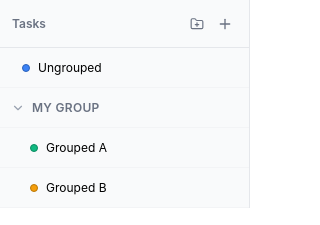
Test: Task Groups › collapsing a group hides its children
Note: Click the collapse toggle
Click the button with test id "group-toggle-g1".
click(18, 108)  # box [8,98,28,118]
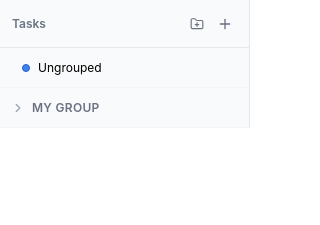
Expected: the text "My Group" is shown, [32,100,100,116]
Now the text "Grouped A" is gone
Now the text "Grouped B" is gone
